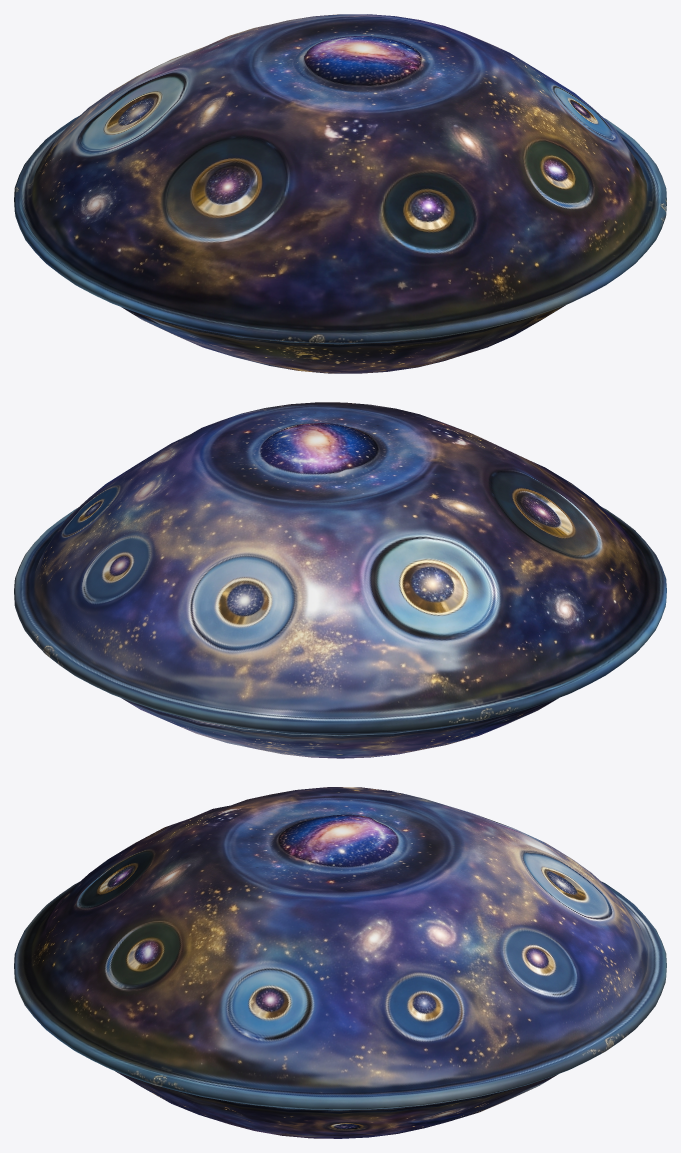
The picture shows the model from 3 angles, top to bottom: view 1: azimuth 30°, elevation 25°; view 2: azimuth 150°, elevation 25°; view 3: azimuth 270°, elevation 25°; orthographic projection.
Parts seen in each view (by area): view 1: g; view 2: g; view 3: g.
Part boxes in pixels (x1,y1,x2,y2): g: (14,14,666,373); g: (14,402,666,758); g: (14,787,666,1138).
Bounding box in the file's own units: 2 × 0.9154 × 2.
Materials: 1 (1 with a texture image).
